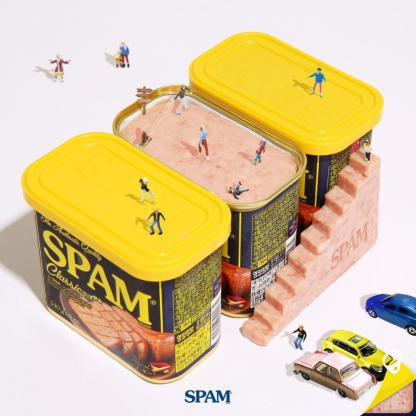spam: (34, 144, 226, 380)
